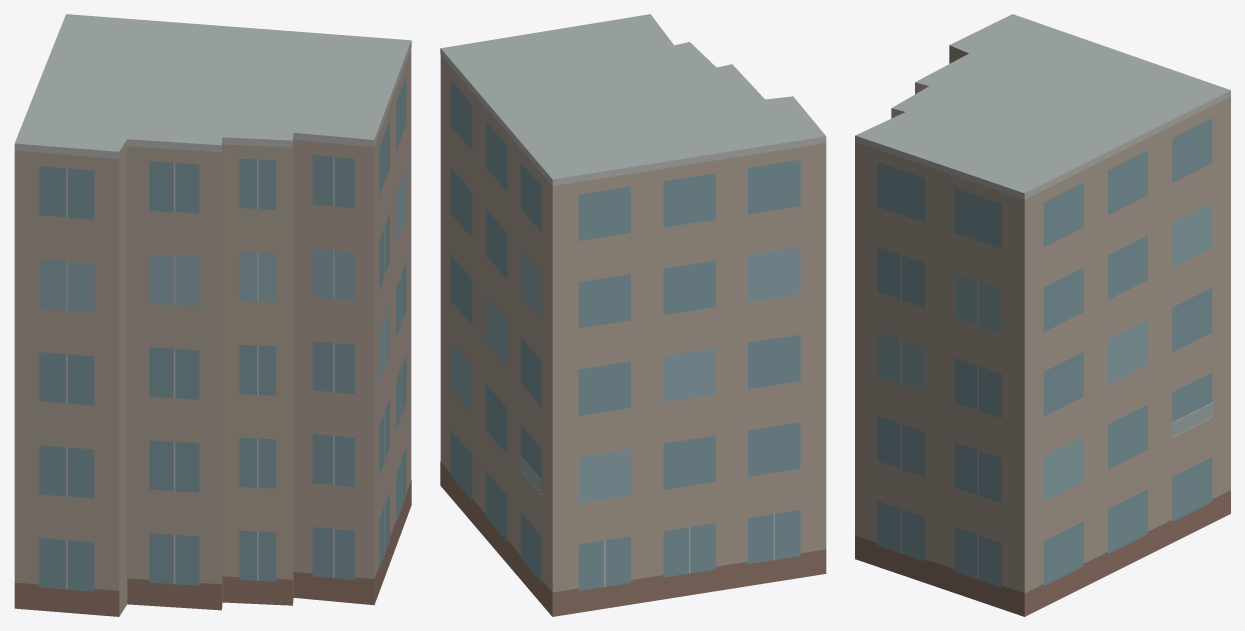
File: survey-upis-32892328.glb
The picture shows the model from 3 angles, left to right: view 1: azimuth 30°, elevation 25°; view 2: azimuth 150°, elevation 25°; view 3: azimuth 270°, elevation 25°; orthographic projection. The views are drawn at different scales.
Visible parts, largest first — view 1: survey-upis-32892328.tmp; view 2: survey-upis-32892328.tmp; view 3: survey-upis-32892328.tmp.
Part boxes in pixels (left/top/right/bottom): survey-upis-32892328.tmp: left=14, top=14, right=411, bottom=616; survey-upis-32892328.tmp: left=440, top=14, right=826, bottom=616; survey-upis-32892328.tmp: left=855, top=14, right=1230, bottom=616.
Bounding box in the file's own units: 14.67 × 16.15 × 12.99.
